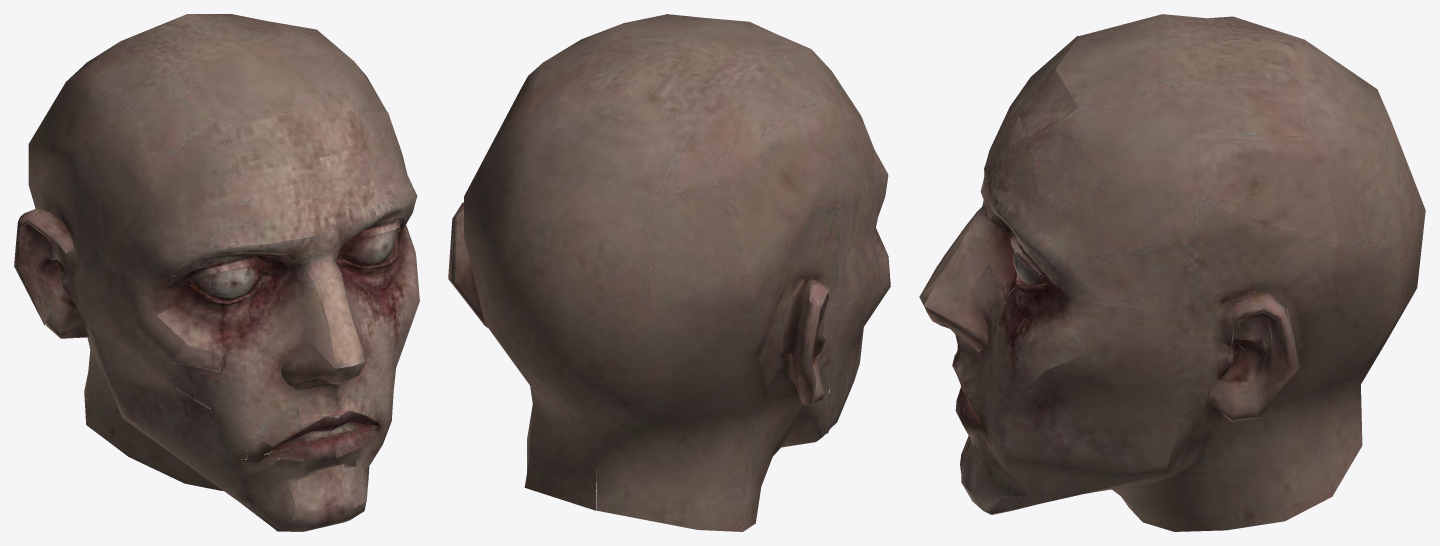
The model's file is m_baldhead.glb.
3 renders of one model, left to right at view 1: azimuth 30°, elevation 25°; view 2: azimuth 150°, elevation 25°; view 3: azimuth 270°, elevation 25°, orthographic. The views are drawn at different scales.
Parts seen in each view (by area): view 1: NightmareKitchenHead_SuppliedMesh; view 2: NightmareKitchenHead_SuppliedMesh; view 3: NightmareKitchenHead_SuppliedMesh.
Part boxes in pixels (bbox=[...]): NightmareKitchenHead_SuppliedMesh: bbox=[14, 14, 419, 531]; NightmareKitchenHead_SuppliedMesh: bbox=[448, 14, 890, 531]; NightmareKitchenHead_SuppliedMesh: bbox=[919, 14, 1425, 531].
Size of the model in its own units: 0.8267 by 1 by 0.9879.
1 material, 1 textured.
